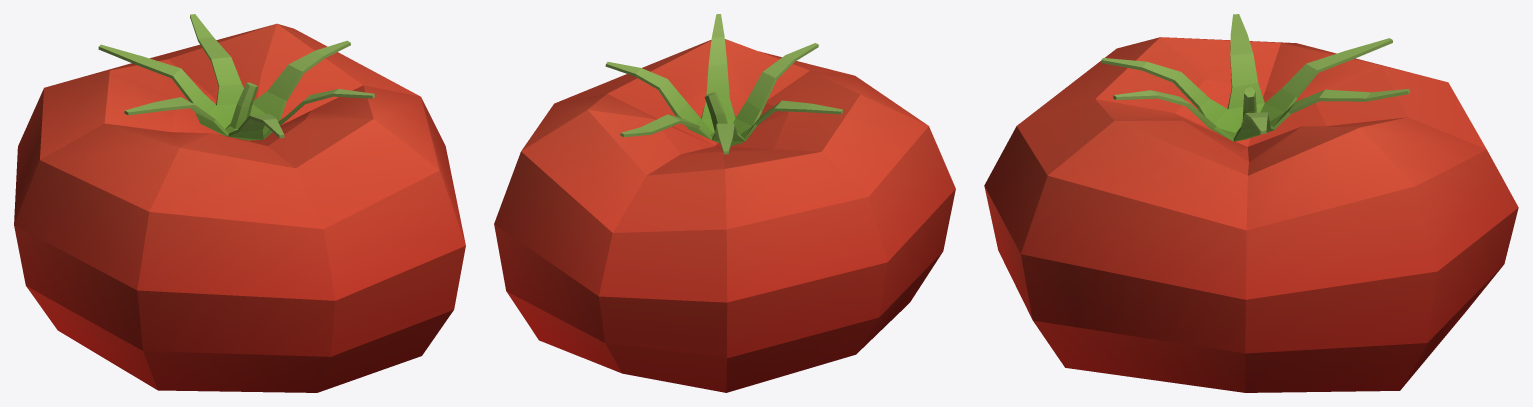
Rendered from tomato.glb.
3 renders of one model, left to right at view 1: azimuth 30°, elevation 25°; view 2: azimuth 150°, elevation 25°; view 3: azimuth 270°, elevation 25°, orthographic. The views are drawn at different scales.
Parts seen in each view (by area): view 1: tomato; view 2: tomato; view 3: tomato.
Boxes of the visible parts, left/top/right/bottom form: tomato: left=14, top=14, right=465, bottom=392; tomato: left=494, top=14, right=955, bottom=392; tomato: left=984, top=14, right=1518, bottom=392.
Bounding box in the file's own units: 0.2999 × 0.1956 × 0.3306.
Materials: 1 (1 with a texture image).
